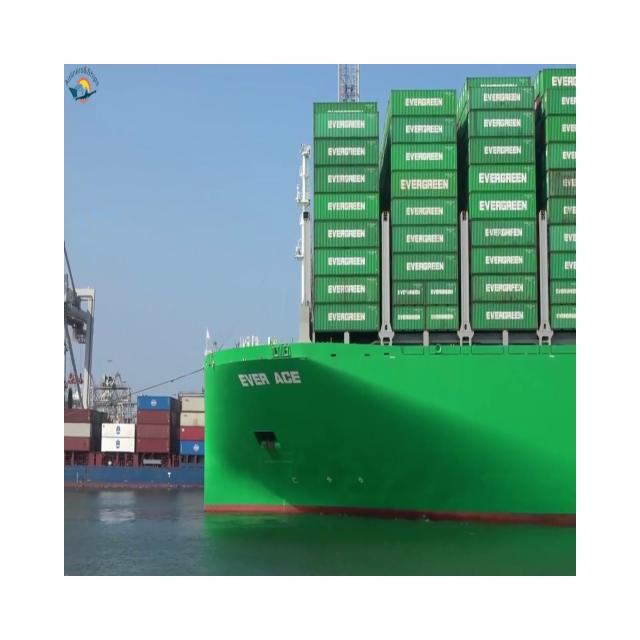OCR: (234, 361, 308, 402)
